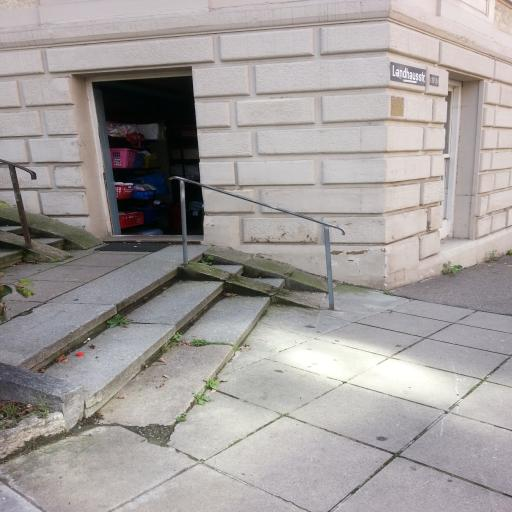ramp: (172, 246, 334, 310), (0, 202, 104, 260)
stairs: (2, 274, 266, 428)
